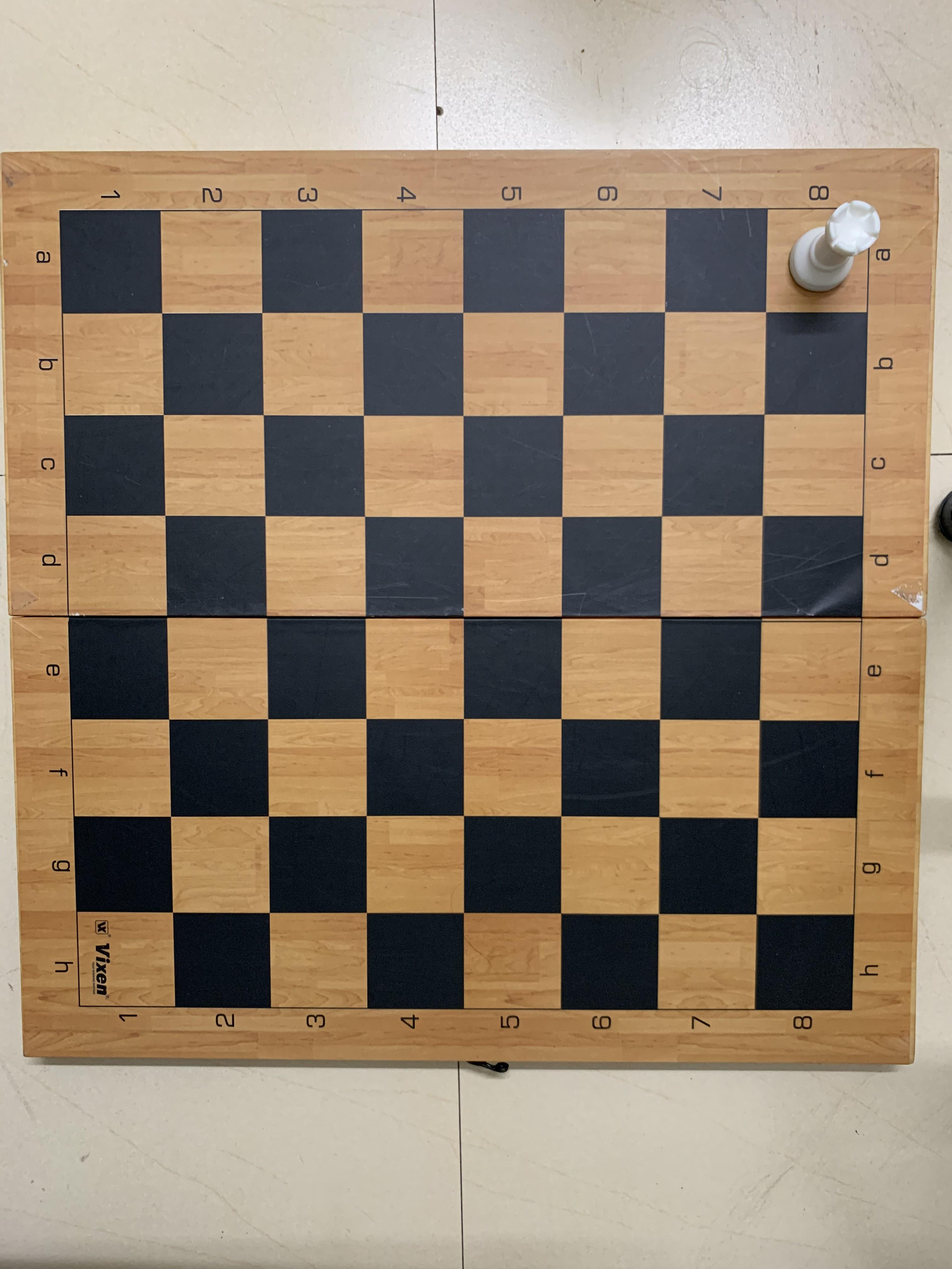white_rook: (774, 183, 886, 316)
